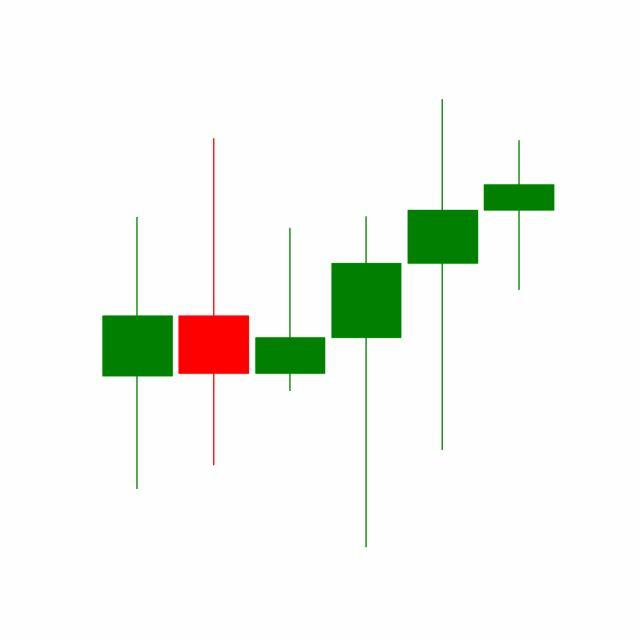Spinning Top: (404, 96, 482, 455)
